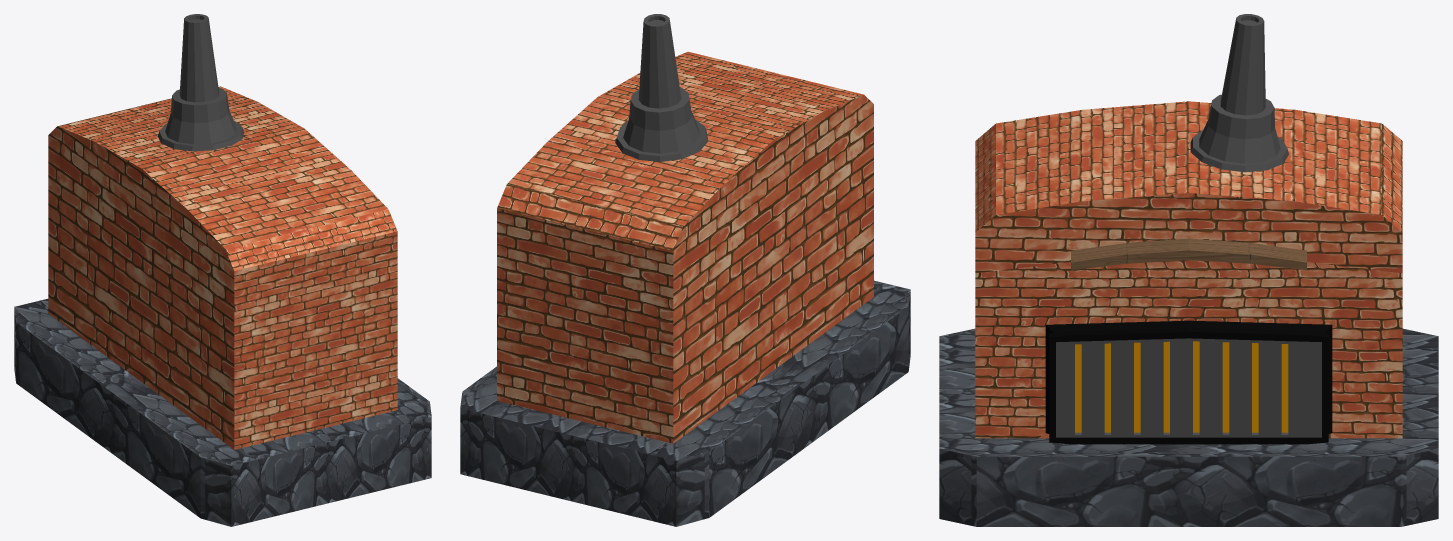
The model's file is Oven non animated.fbx.
The picture shows the model from 3 angles, left to right: view 1: azimuth 30°, elevation 25°; view 2: azimuth 150°, elevation 25°; view 3: azimuth 270°, elevation 25°; orthographic projection. The views are drawn at different scales.
Visible parts, largest first — view 1: Cylinder; view 2: Cylinder; view 3: Cylinder.
Boxes of the visible parts, x1,y1,x2,y2 form: Cylinder: [14, 14, 431, 526]; Cylinder: [460, 14, 910, 526]; Cylinder: [939, 14, 1438, 526].
Size of the model in its own units: 280 by 274 by 170.
Materials: 8 (3 with a texture image).
